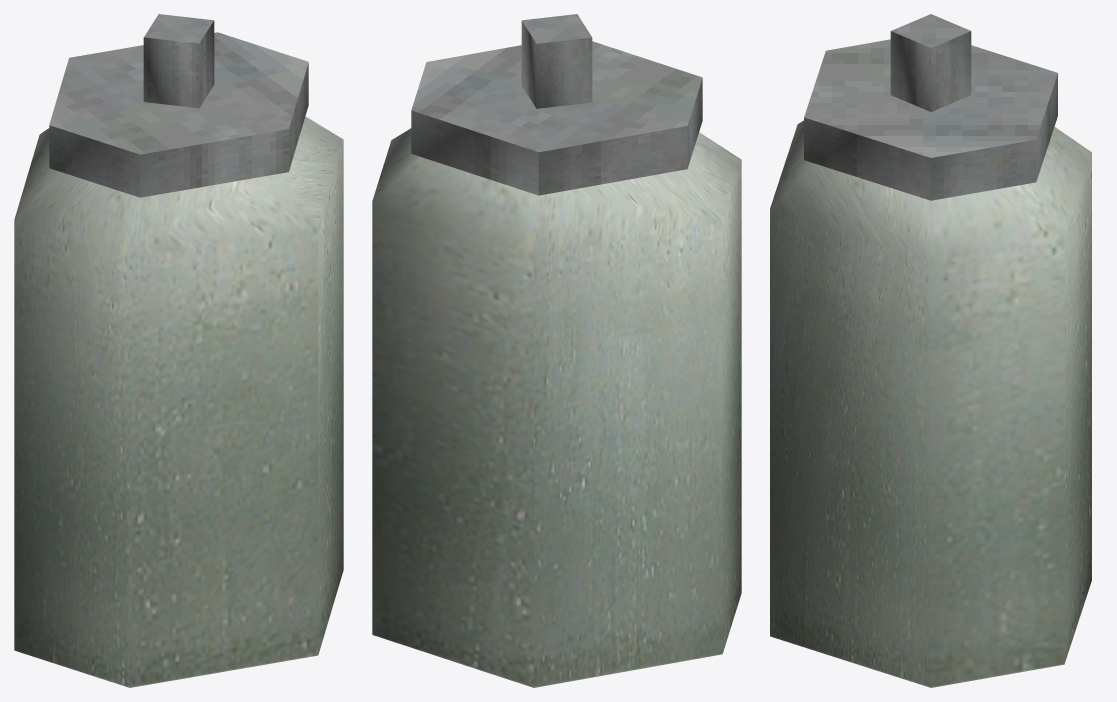
File: edb_con_tato_jar_bugs_s01_l1.fbx
The picture shows the model from 3 angles, left to right: view 1: azimuth 30°, elevation 25°; view 2: azimuth 150°, elevation 25°; view 3: azimuth 270°, elevation 25°; orthographic projection.
Visible parts, largest first — view 1: mesh_node; view 2: mesh_node; view 3: mesh_node.
Part boxes in pixels (x1,y1,x2,y2): mesh_node: (14, 14, 343, 687); mesh_node: (372, 14, 741, 687); mesh_node: (770, 14, 1091, 687).
Bounding box in the file's own units: 0.2 × 0.339 × 0.1765.
